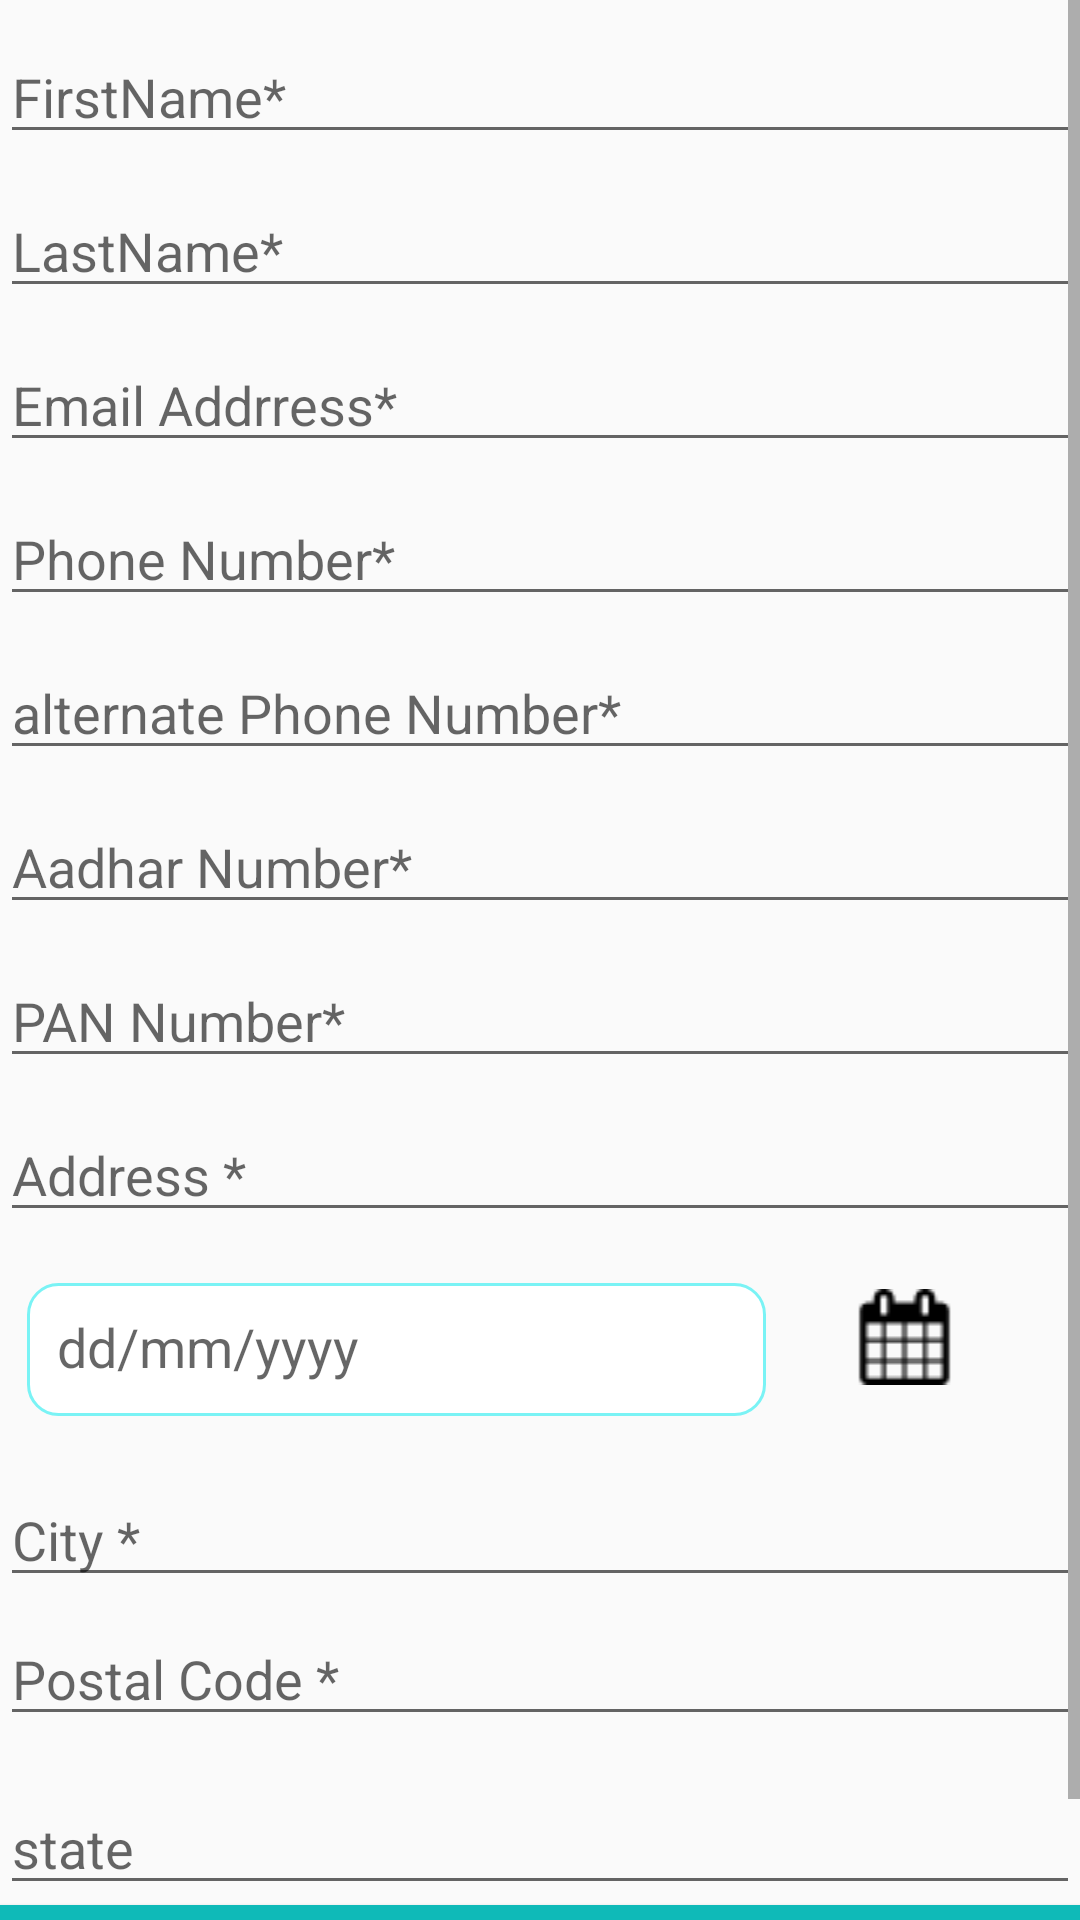

Icons on this 1080px×1920px Android screen, each with the point to tap as point (x, y):
calendar: point (904, 1337)
